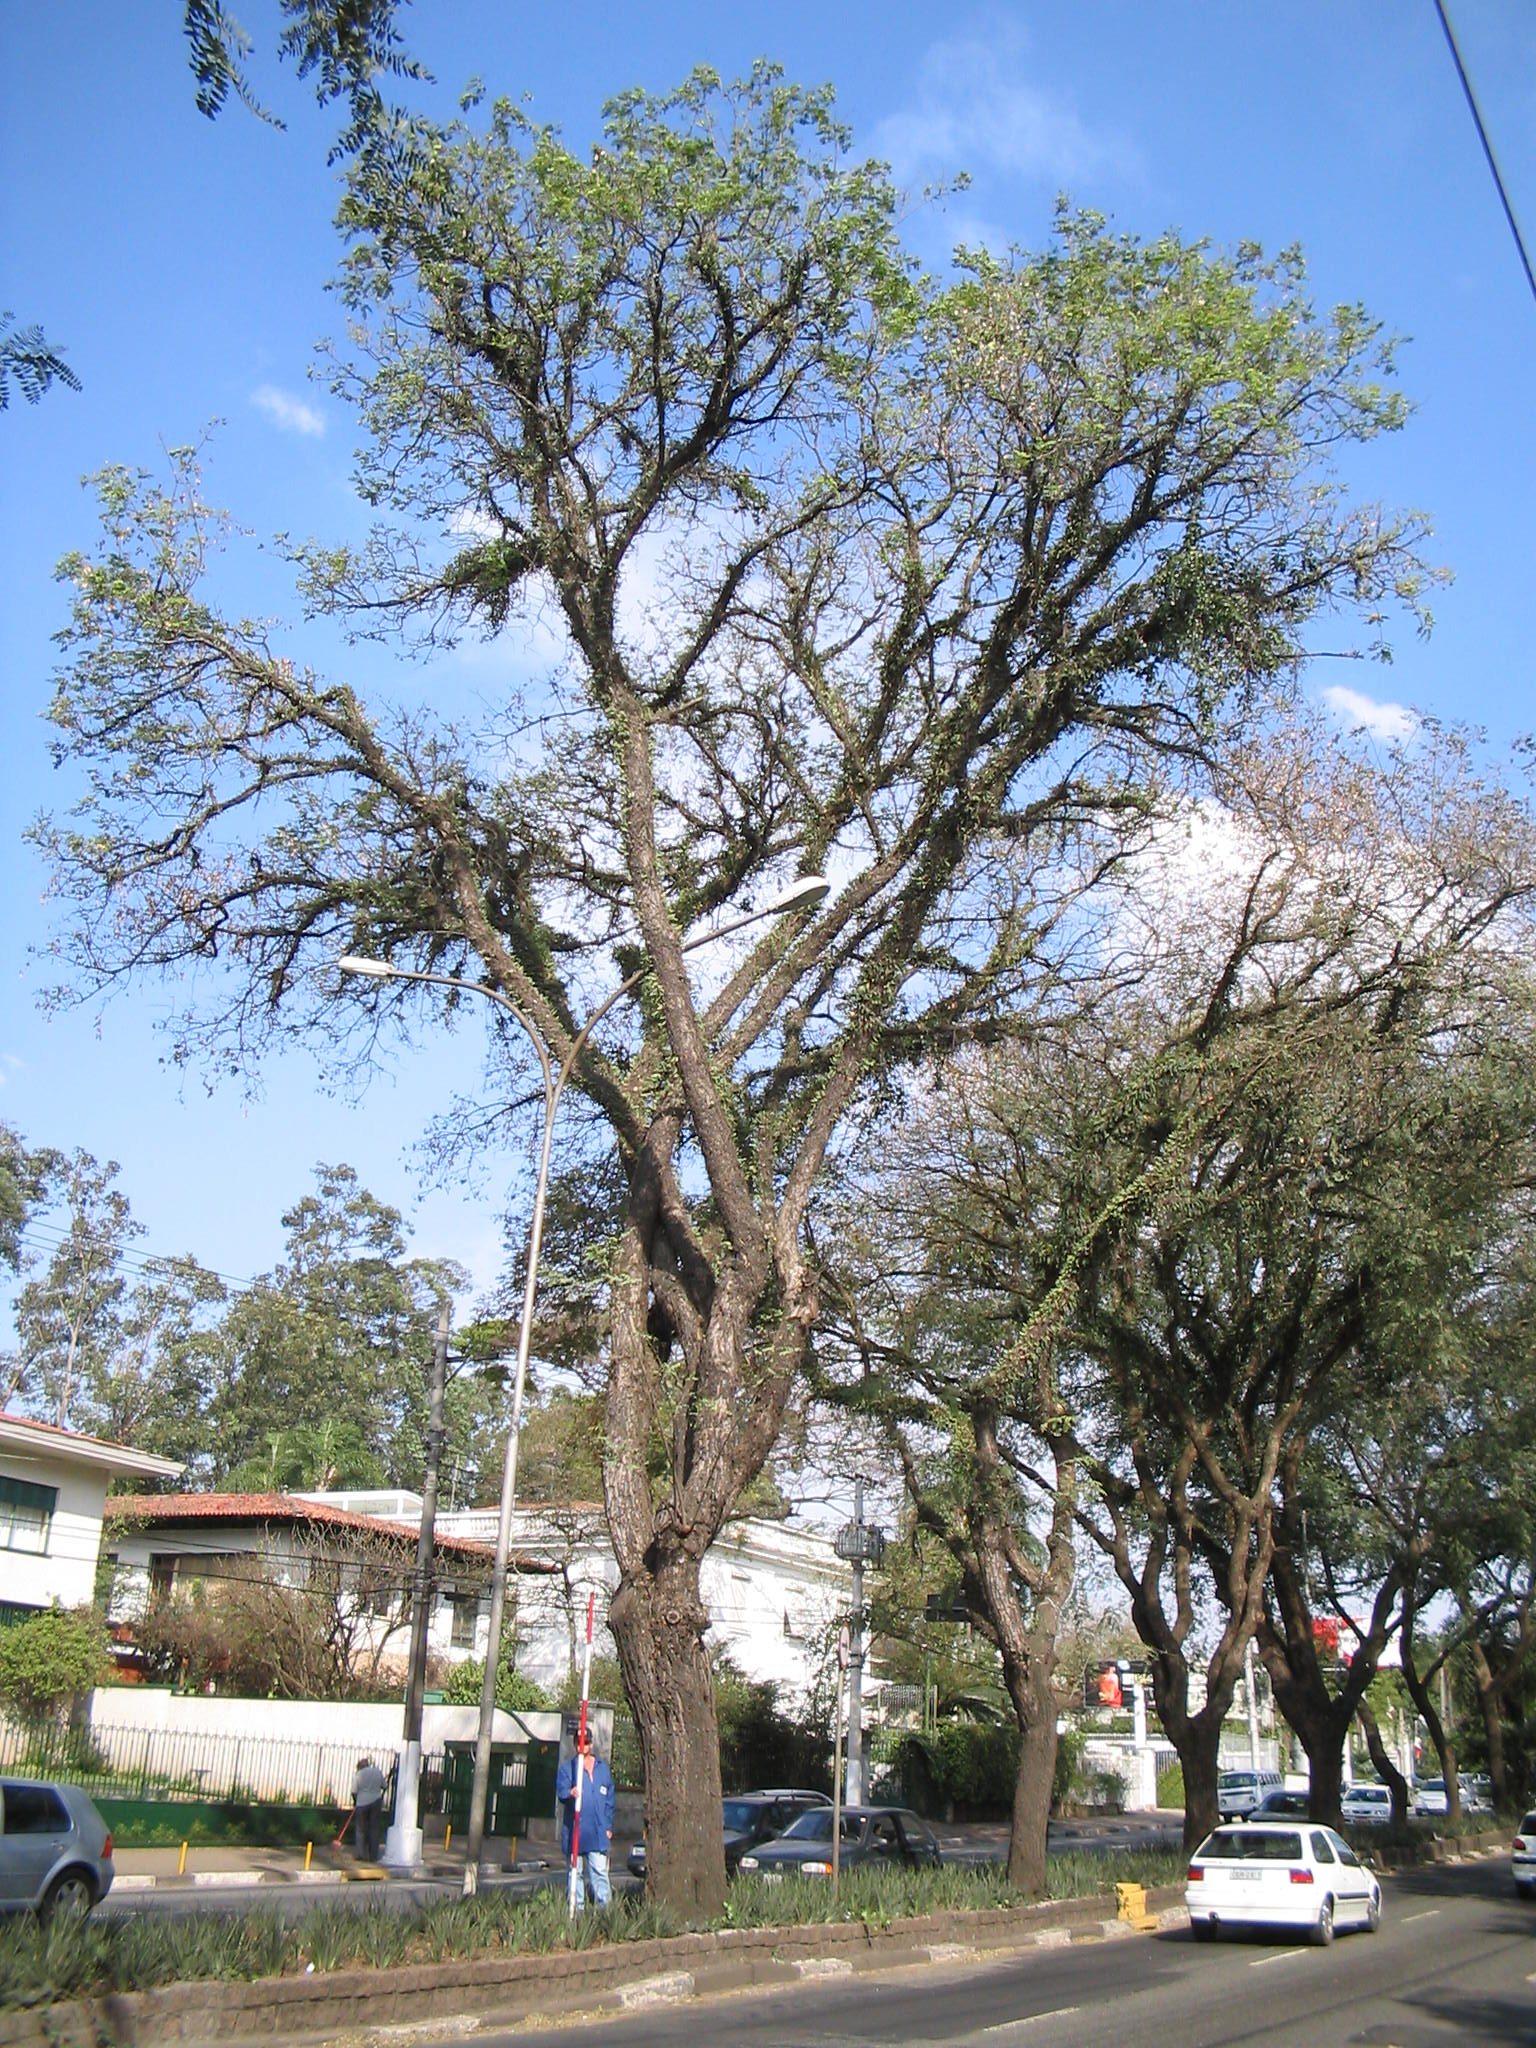crown: (53, 66, 1452, 1140)
stem: (599, 1567, 773, 1929), (957, 1655, 1089, 1900), (1146, 1734, 1252, 1861)
stick: (541, 1592, 615, 1929)
tree: (47, 63, 1457, 1932)
